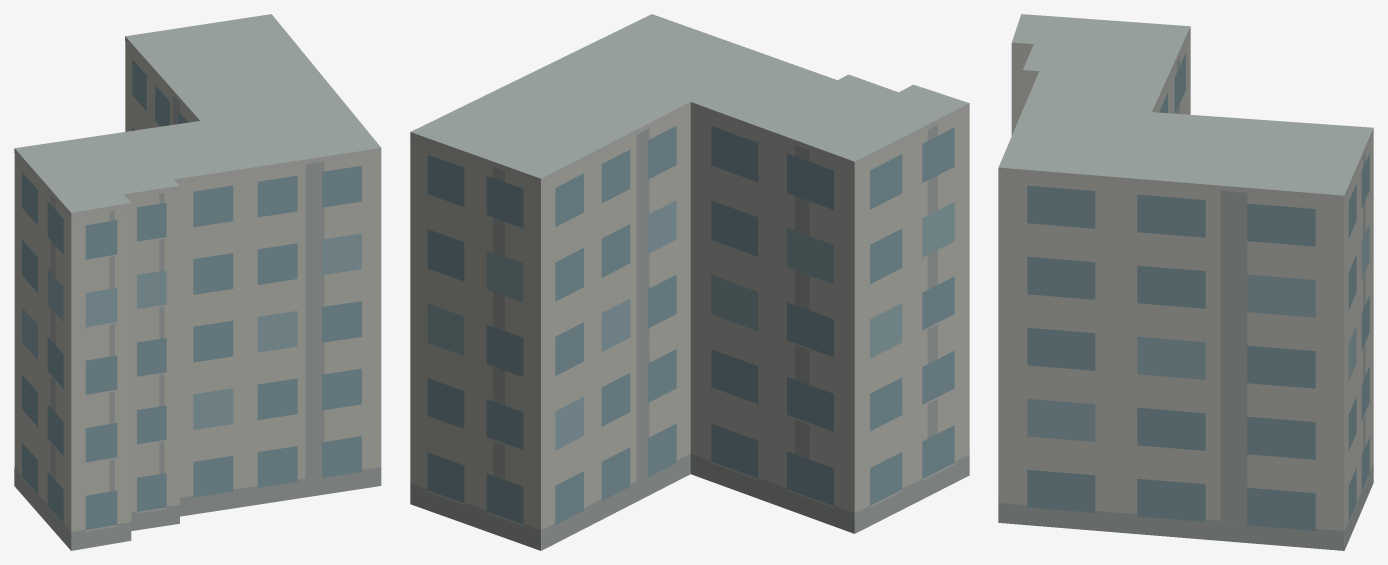
Rendered from survey-upis-32825712.glb.
The picture shows the model from 3 angles, left to right: view 1: azimuth 30°, elevation 25°; view 2: azimuth 150°, elevation 25°; view 3: azimuth 270°, elevation 25°; orthographic projection. The views are drawn at different scales.
Visible parts, largest first — view 1: survey-upis-32825712.tmp; view 2: survey-upis-32825712.tmp; view 3: survey-upis-32825712.tmp.
Part boxes in pixels (x1=…): survey-upis-32825712.tmp: x1=14, y1=14, x2=381, y2=550; survey-upis-32825712.tmp: x1=410, y1=14, x2=969, y2=550; survey-upis-32825712.tmp: x1=998, y1=14, x2=1373, y2=550.
Bounding box in the file's own units: 18.82 × 17.15 × 16.42.
